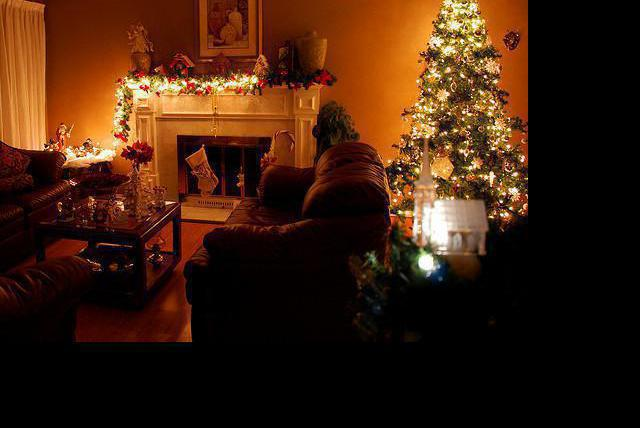Matera: (392, 0, 515, 238), (311, 101, 365, 200)
